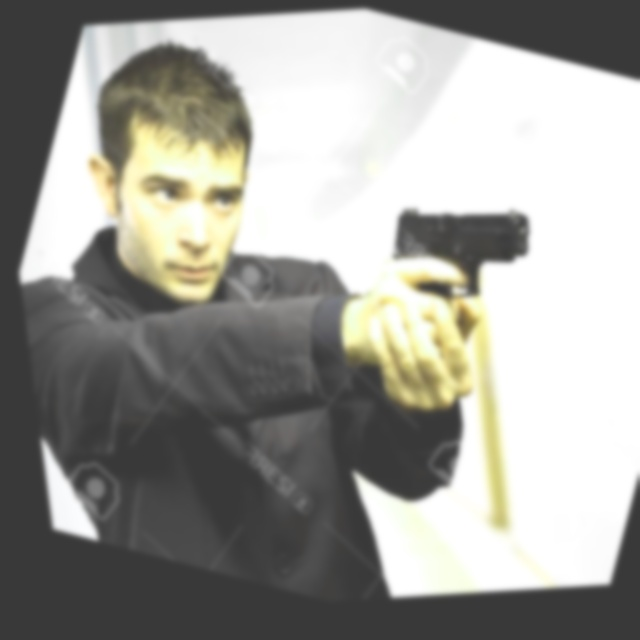gun: (293, 139, 616, 458)
